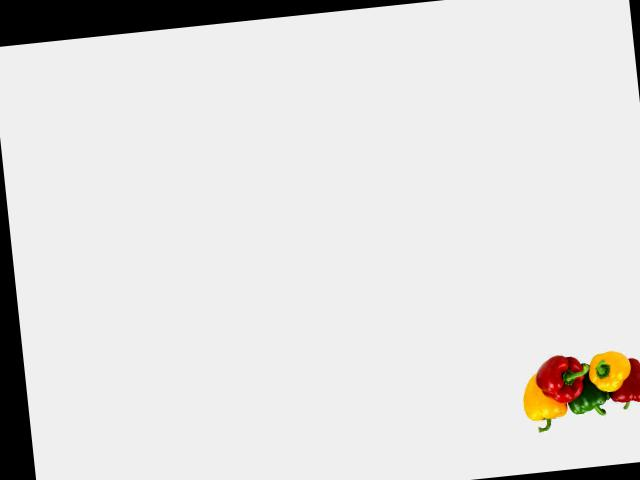bell_pepper: (607, 362, 640, 412)
